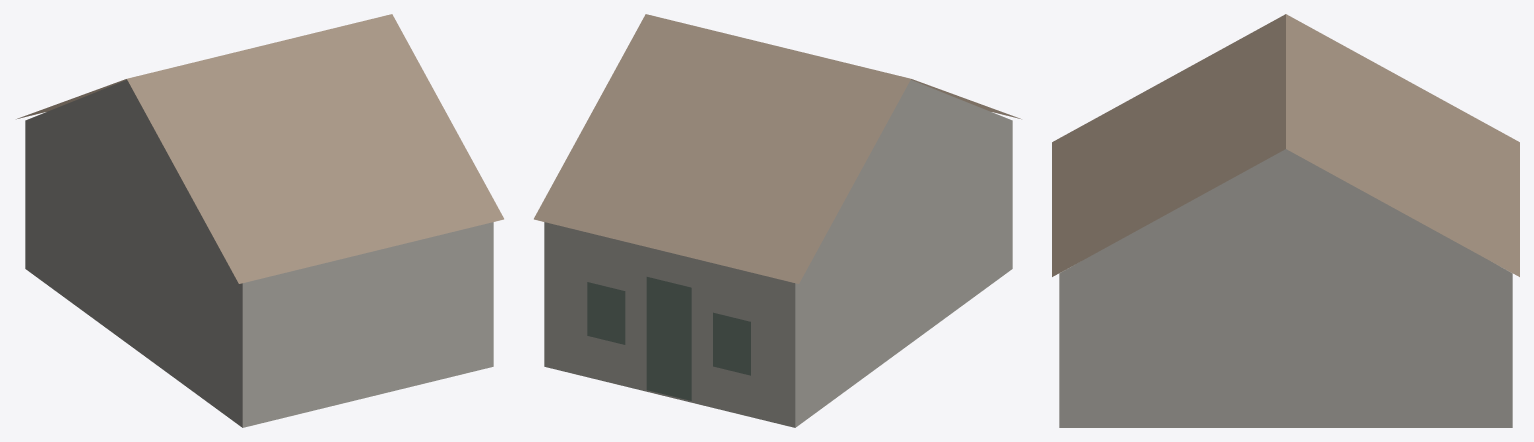
File: recon_1835_north_a1_036__recommended_1835.glb
3 views of the same model, side by side, from view 1: azimuth 30°, elevation 25°; view 2: azimuth 150°, elevation 25°; view 3: azimuth 270°, elevation 25° (orthographic). The views are drawn at different scales.
Visible parts, largest first — view 1: recon_1835_north_a1_036__recommended_1835; view 2: recon_1835_north_a1_036__recommended_1835; view 3: recon_1835_north_a1_036__recommended_1835.
Boxes of the visible parts, x1,y1,x2,y2 form: recon_1835_north_a1_036__recommended_1835: [16, 14, 503, 427]; recon_1835_north_a1_036__recommended_1835: [534, 14, 1021, 427]; recon_1835_north_a1_036__recommended_1835: [1052, 14, 1519, 427].
Size of the model in its own units: 5.16 by 5.04 by 7.55.
